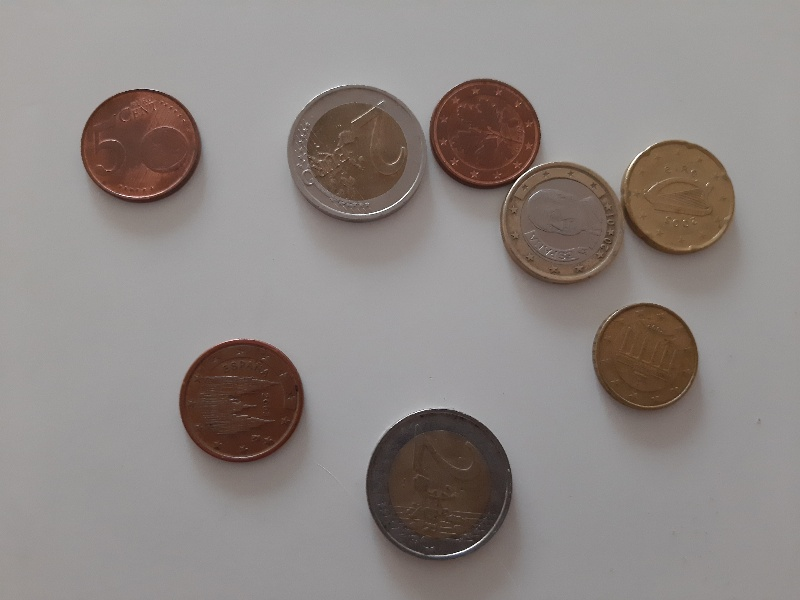1 euro: (499, 159, 627, 288)
10 cent: (589, 300, 702, 414)
2 euro: (361, 403, 517, 562), (286, 82, 427, 223)
20 cent: (622, 135, 739, 259)
5 cent: (175, 337, 311, 467), (78, 86, 205, 207), (427, 75, 545, 191)
